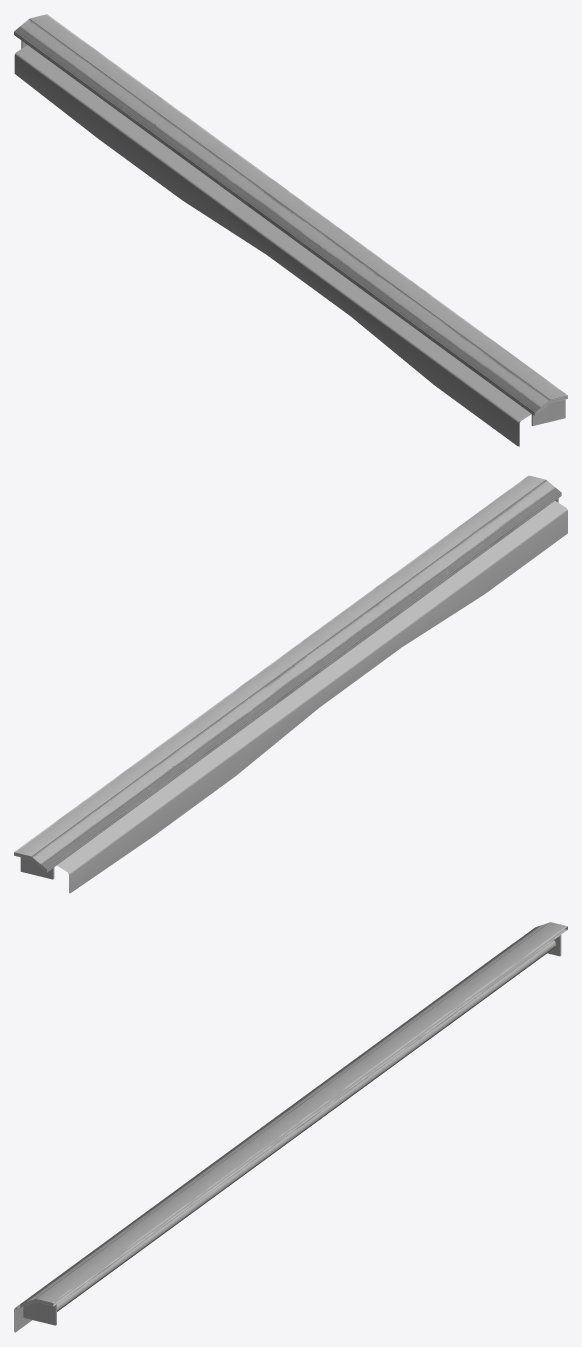
File: MB_Canopy_04.fbx
3 renders of one model, top to bottom at view 1: azimuth 30°, elevation 25°; view 2: azimuth 150°, elevation 25°; view 3: azimuth 330°, elevation 25°, orthographic.
Parts seen in each view (by area): view 1: MB_Canopy_04; view 2: MB_Canopy_04; view 3: MB_Canopy_04.
Part boxes in pixels (x1,y1,x2,y2): MB_Canopy_04: (14,14,567,446); MB_Canopy_04: (14,475,567,893); MB_Canopy_04: (14,922,567,1332).
Size of the model in its own units: 34.92 by 33.16 by 705.
